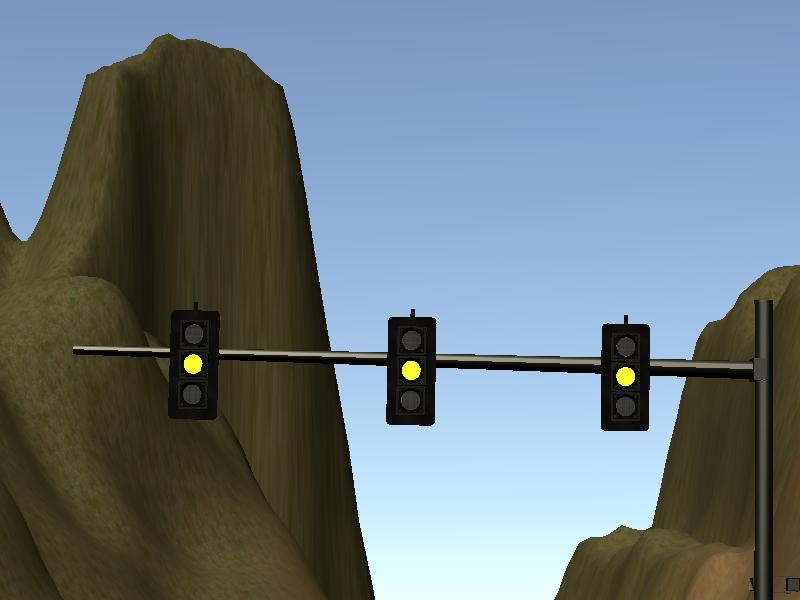yellow: (165, 306, 224, 423), (384, 314, 437, 431), (598, 320, 651, 435)
